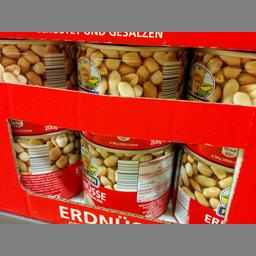nuts: (76, 132, 174, 220), (73, 42, 184, 97), (12, 129, 82, 198), (170, 148, 231, 222), (185, 48, 255, 103), (0, 38, 73, 88)
